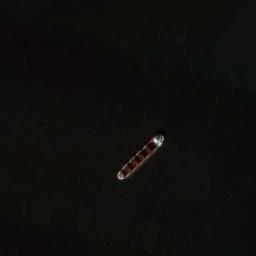boat: (115, 130, 166, 180)
